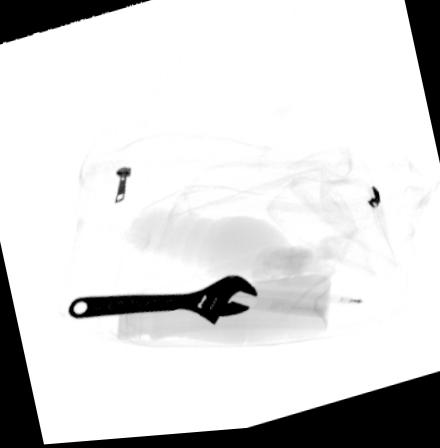Wrench: (66, 275, 259, 331)
